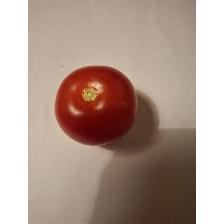Tomate: (50, 60, 140, 148)
